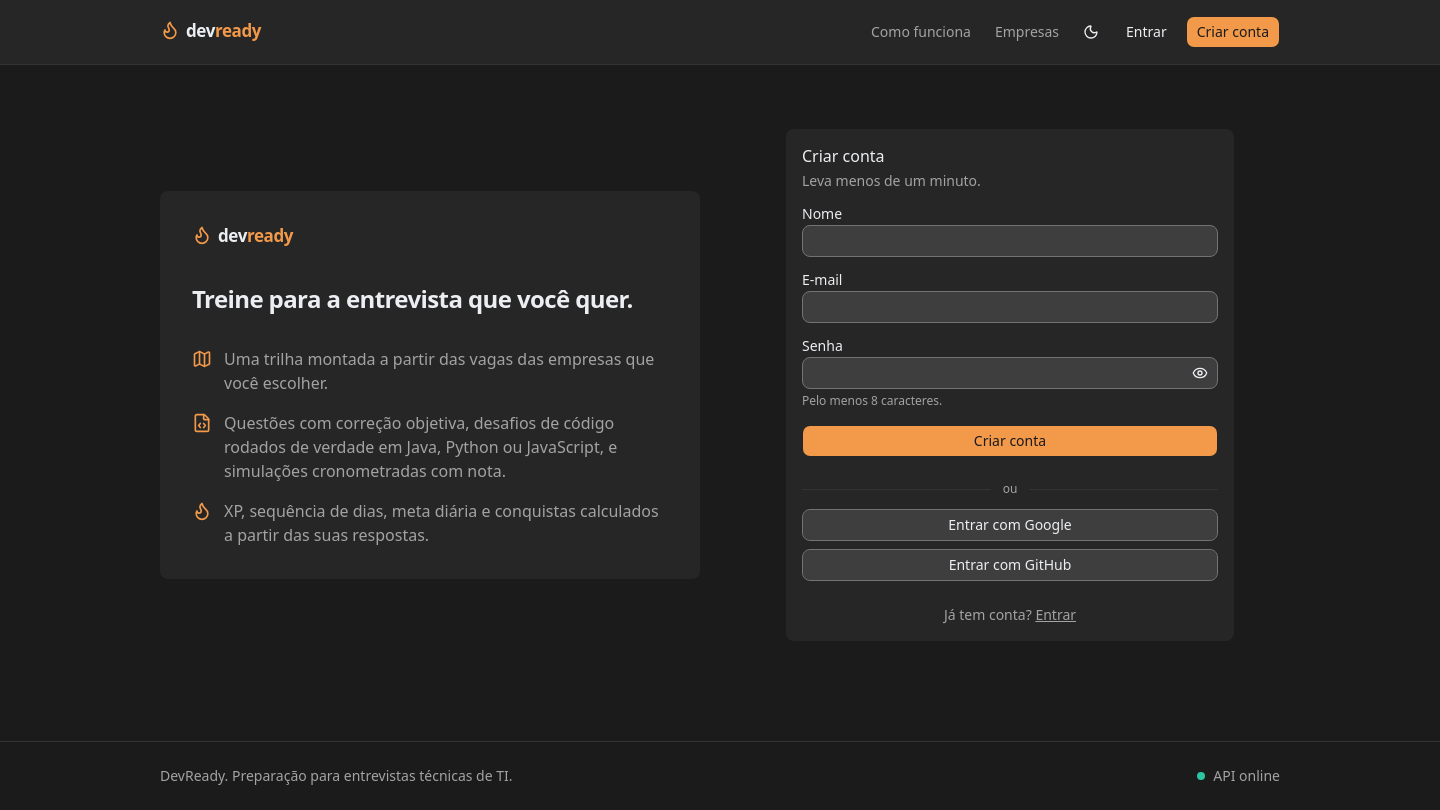
Test case: RegisterPage › não repete o setError em loop após um 422
The width and height of the screenshot is (1440, 810).
Step 1. Type "Ana" into the field labelled "Nome" → coordinates (1010, 241), box [802, 225, 1218, 257]
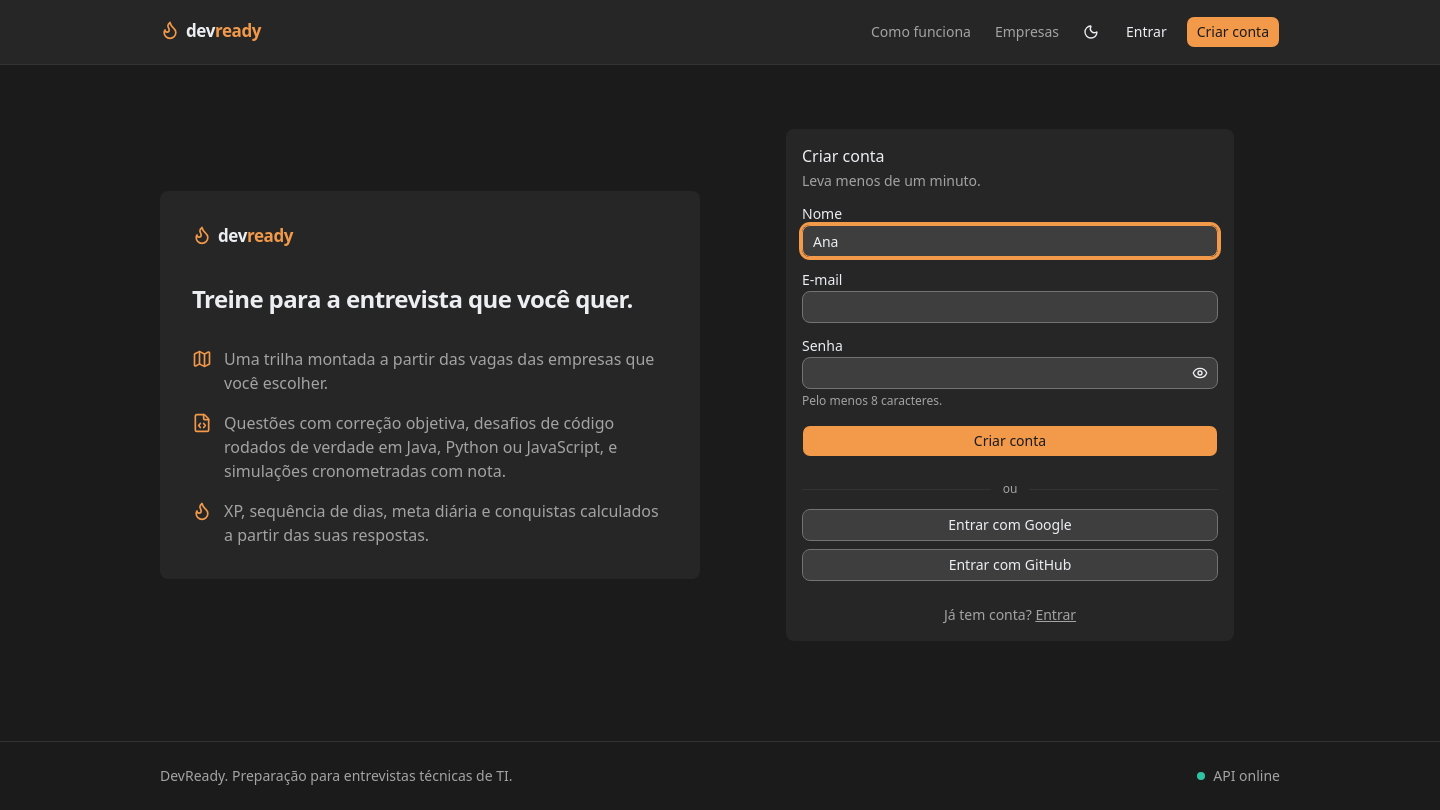
Step 2. Type "ana@example.com" into the field labelled "E-mail" → coordinates (1010, 307), box [802, 291, 1218, 323]
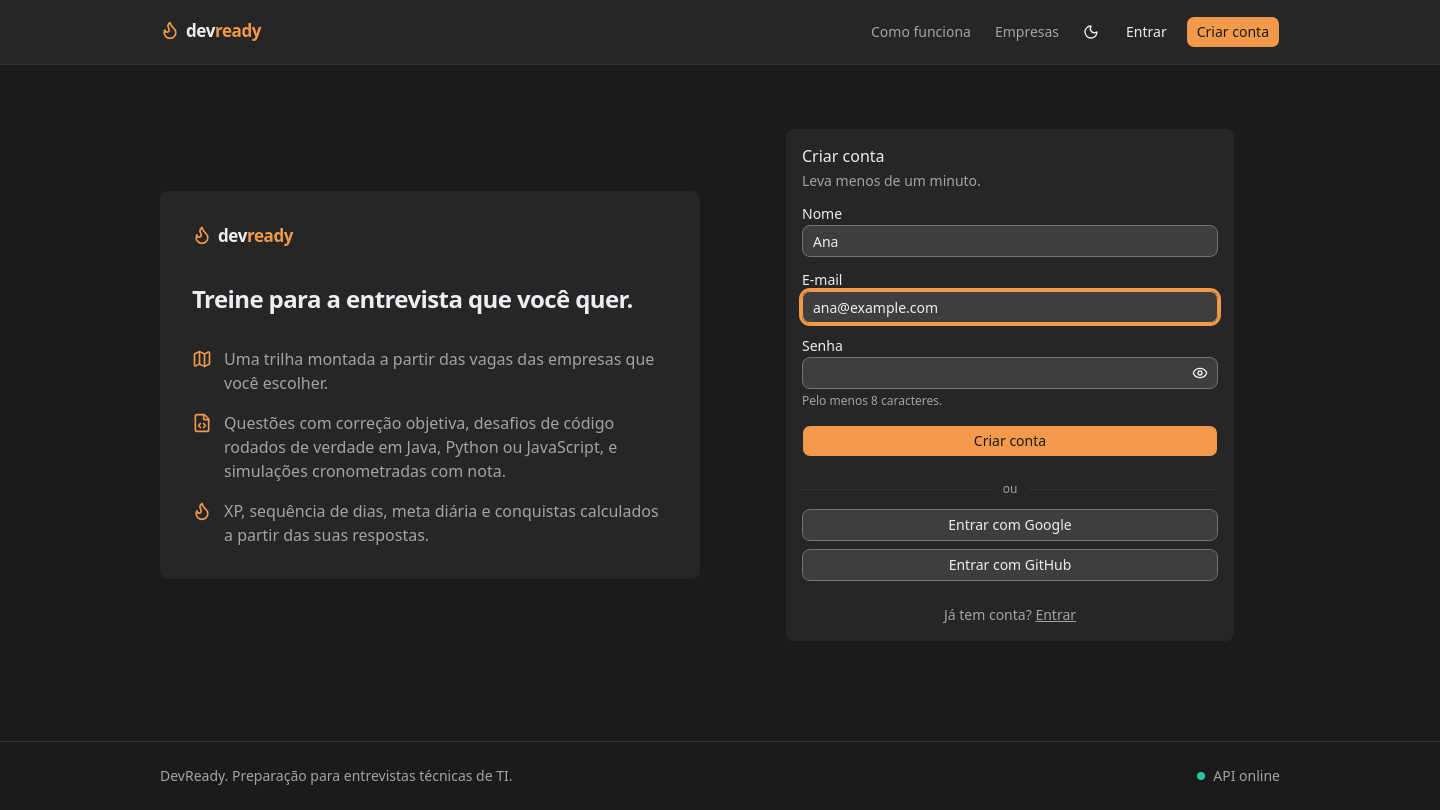
Step 3. Type "senha-forte" into the password field labelled "Senha" → coordinates (1010, 373), box [802, 357, 1218, 389]
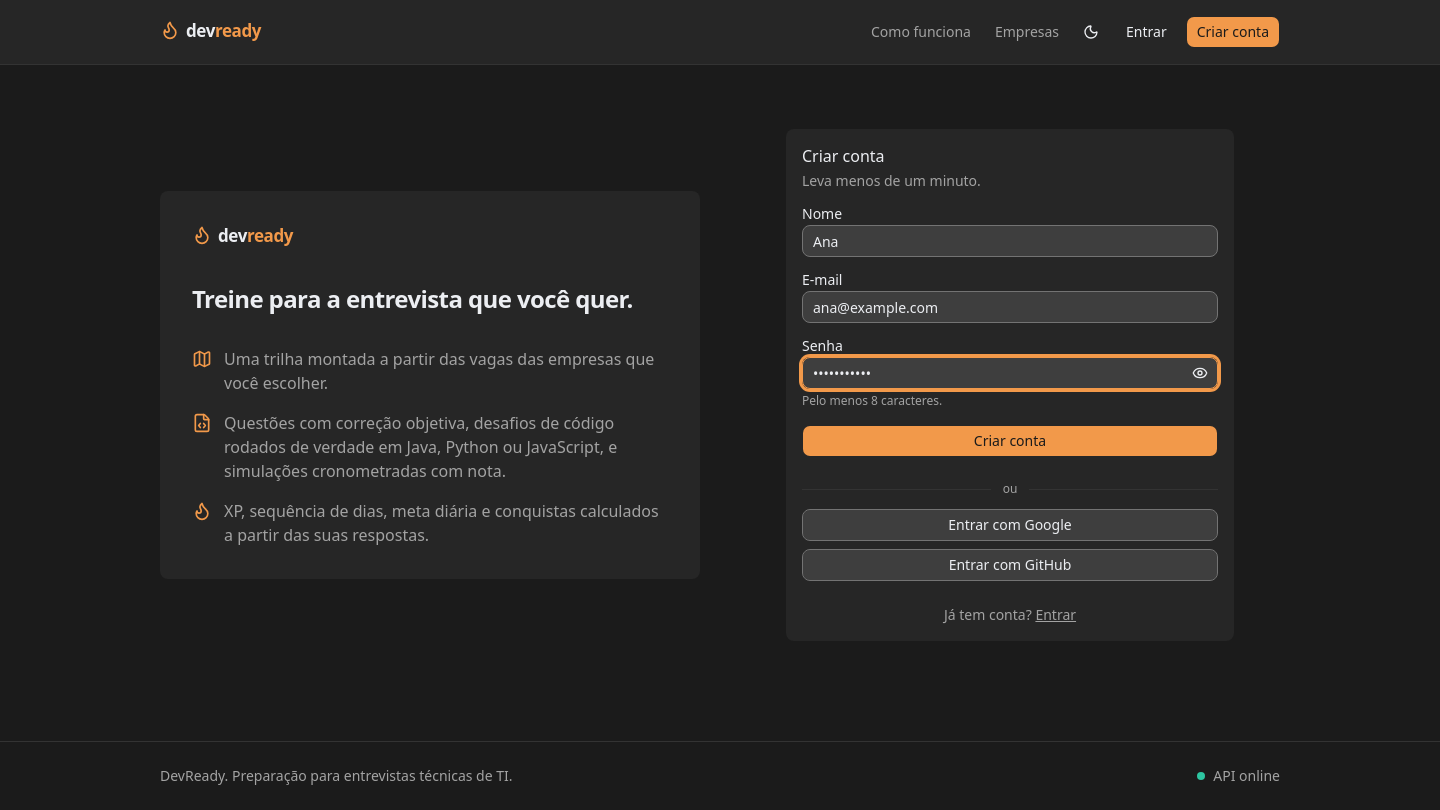
Step 4. Click the button "Criar conta" → coordinates (1010, 441), box [802, 425, 1218, 457]
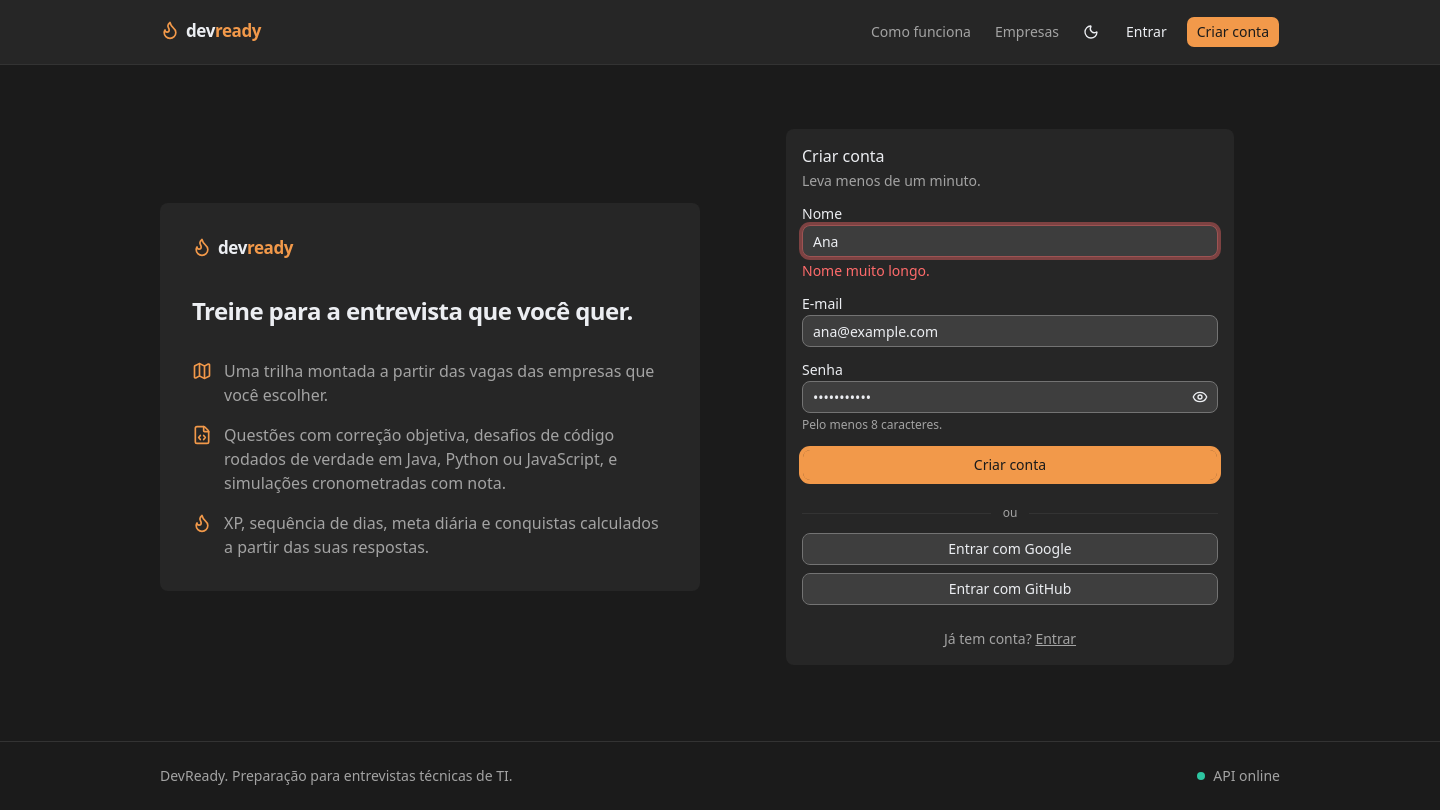
Now the text "Nome muito longo." is shown, box [802, 261, 930, 280]
Step 5. Type "x" into the field labelled "Nome" → coordinates (1010, 241), box [802, 225, 1218, 257]
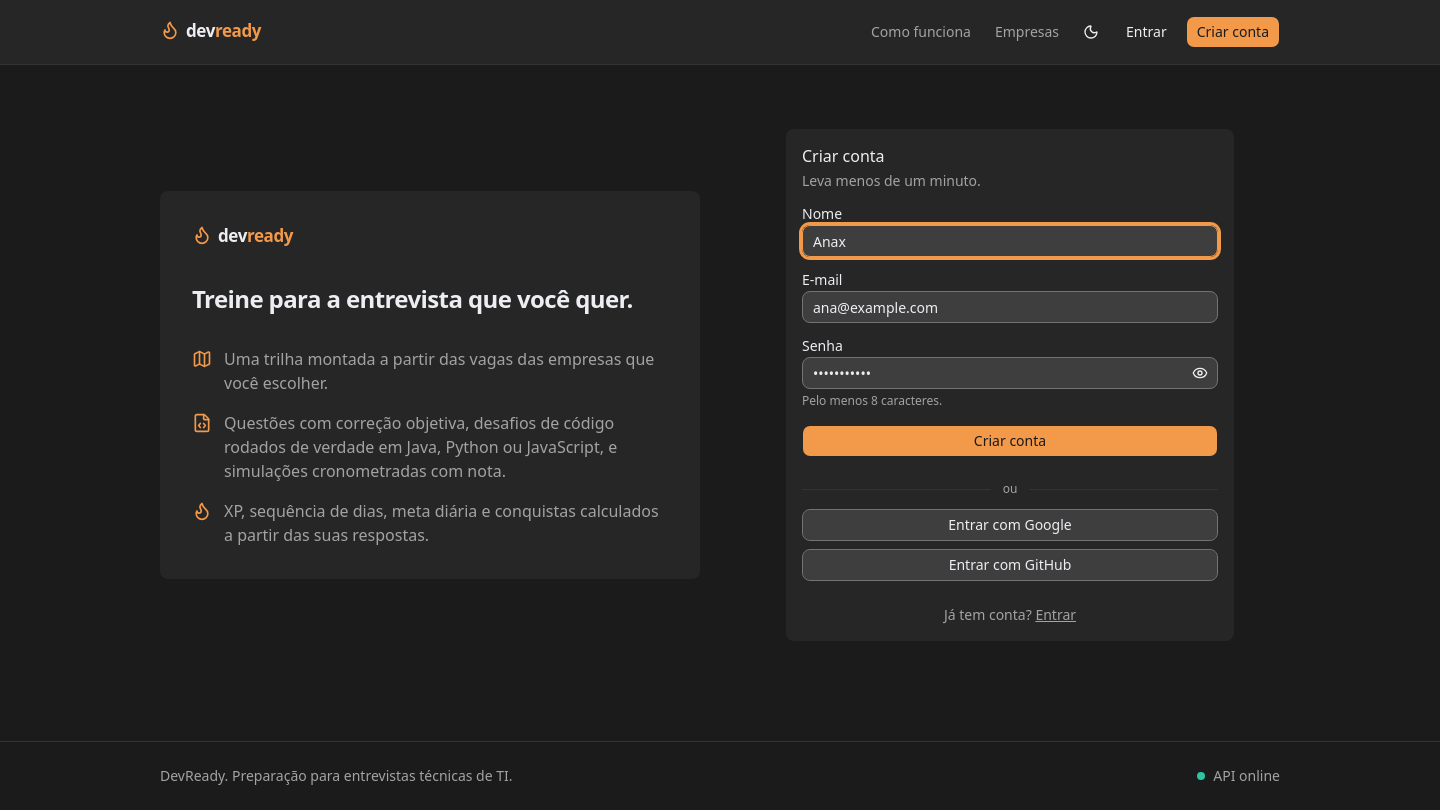
Now the field showing "Anax" is shown, box [802, 225, 1218, 257]
